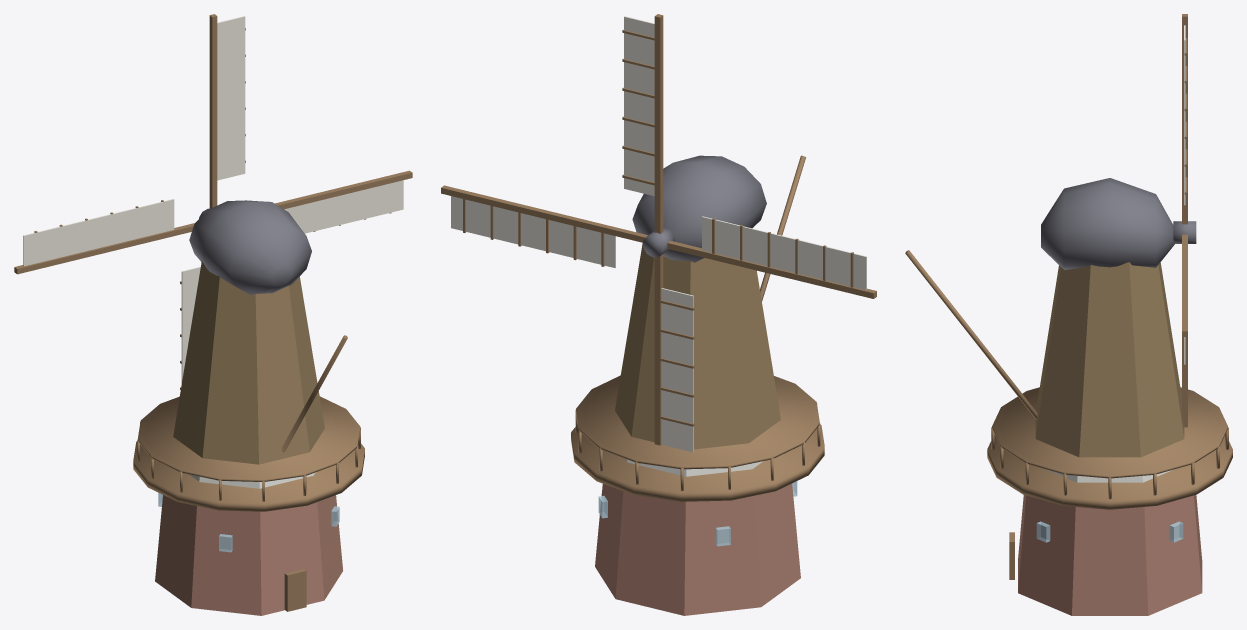
The model's file is windmill.glb.
The picture shows the model from 3 angles, left to right: view 1: azimuth 30°, elevation 25°; view 2: azimuth 150°, elevation 25°; view 3: azimuth 270°, elevation 25°; orthographic projection. The views are drawn at different scales.
Visible parts, largest first — view 1: Mill_Body, Sails; view 2: Mill_Body, Sails; view 3: Mill_Body, Sails.
Part boxes in pixels (x1,y1,x2,y2): Mill_Body: (133, 200, 364, 615); Sails: (14, 14, 412, 389); Mill_Body: (571, 155, 824, 615); Sails: (441, 14, 876, 452); Mill_Body: (905, 178, 1232, 615); Sails: (1173, 14, 1196, 427).
Size of the model in its own units: 25 by 32.3 by 17.08.
